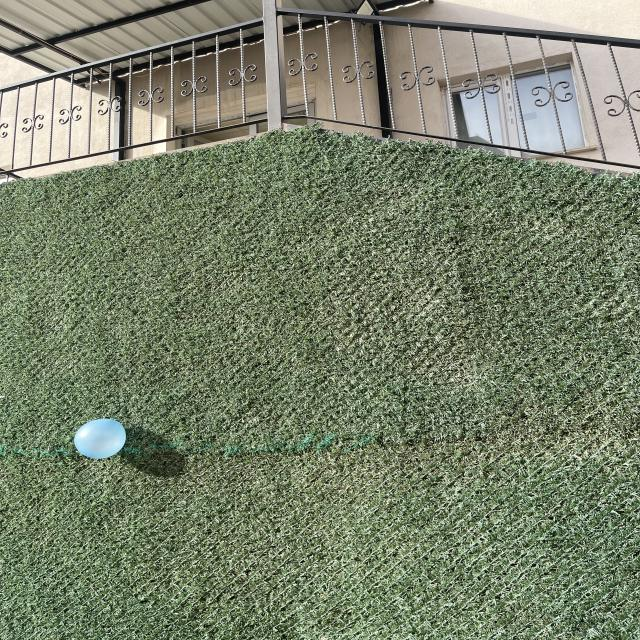balloon: (74, 419, 126, 459)
